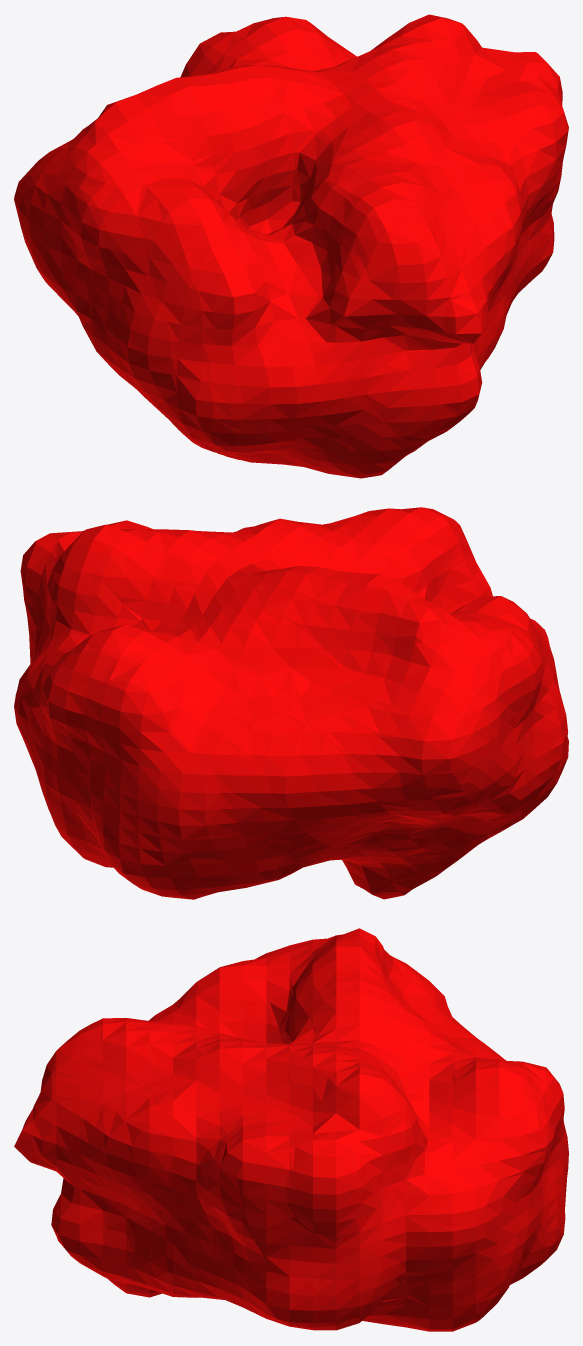
File: ubiA_coarse.dae
3 renders of one model, top to bottom at view 1: azimuth 30°, elevation 25°; view 2: azimuth 150°, elevation 25°; view 3: azimuth 270°, elevation 25°, orthographic. The views are drawn at different scales.
Visible parts, largest first — view 1: ubiA; view 2: ubiA; view 3: ubiA.
Part boxes in pixels (x1=…): ubiA: x1=14, y1=14, x2=568, y2=478; ubiA: x1=14, y1=507, x2=568, y2=899; ubiA: x1=14, y1=928, x2=568, y2=1331.
Size of the model in its own units: 58.48 by 39.44 by 59.68.
